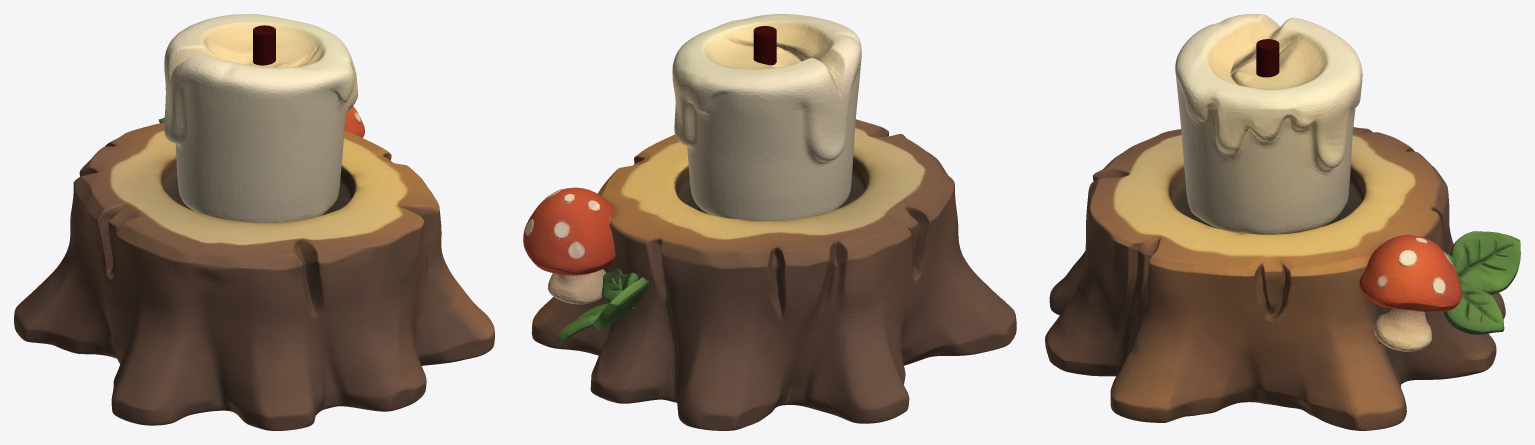
File: candle_4.glb
3 renders of one model, left to right at view 1: azimuth 30°, elevation 25°; view 2: azimuth 150°, elevation 25°; view 3: azimuth 270°, elevation 25°, orthographic.
Visible parts, largest first — view 1: tripo_node_34a64e88-a5a0-4df8-8526-6c481e9ae9e8, Cylinder.002; view 2: tripo_node_34a64e88-a5a0-4df8-8526-6c481e9ae9e8, Cylinder.002; view 3: tripo_node_34a64e88-a5a0-4df8-8526-6c481e9ae9e8, Cylinder.002.
Part boxes in pixels (box(x1,y1,x2,y2)): tripo_node_34a64e88-a5a0-4df8-8526-6c481e9ae9e8: box(14, 14, 494, 430); Cylinder.002: box(253, 25, 275, 65); tripo_node_34a64e88-a5a0-4df8-8526-6c481e9ae9e8: box(523, 14, 1016, 430); Cylinder.002: box(753, 26, 776, 65); tripo_node_34a64e88-a5a0-4df8-8526-6c481e9ae9e8: box(1045, 14, 1520, 430); Cylinder.002: box(1256, 39, 1279, 77).
Bounding box in the file's own units: 0.8877 × 0.6916 × 0.9788.
Materials: 2 (1 with a texture image).
